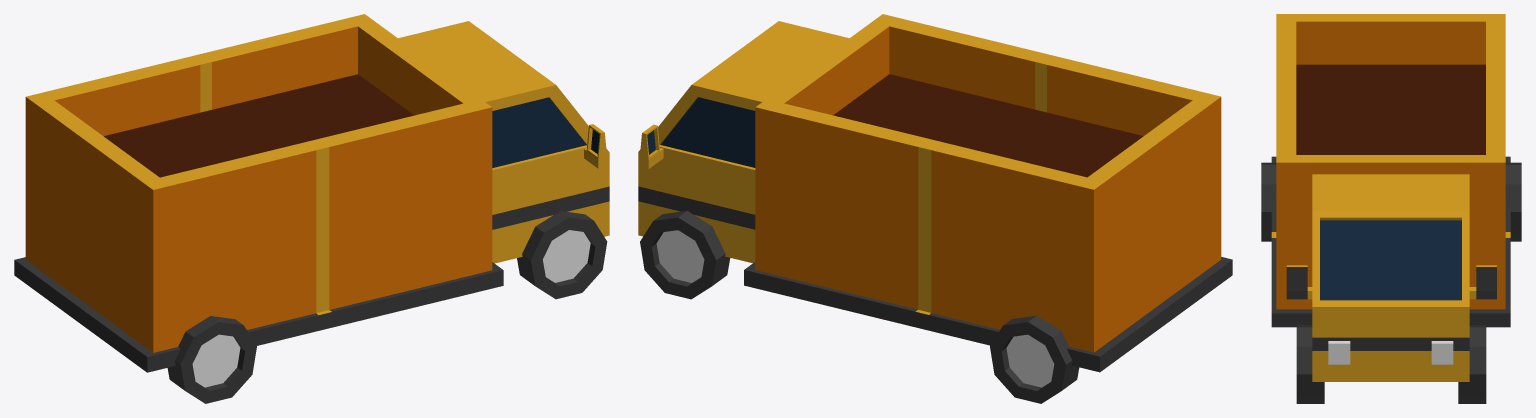
Rendered from Truck.fbx.
3 renders of one model, left to right at view 1: azimuth 30°, elevation 25°; view 2: azimuth 150°, elevation 25°; view 3: azimuth 270°, elevation 25°, orthographic. The views are drawn at different scales.
Parts seen in each view (by area): view 1: yellow truck; view 2: yellow truck; view 3: yellow truck.
Boxes of the visible parts, x1=… form: yellow truck: x1=14, y1=14, x2=609, y2=403; yellow truck: x1=638, y1=14, x2=1232, y2=403; yellow truck: x1=1261, y1=14, x2=1521, y2=403.
Size of the model in its own units: 93.69 by 78.1 by 184.
